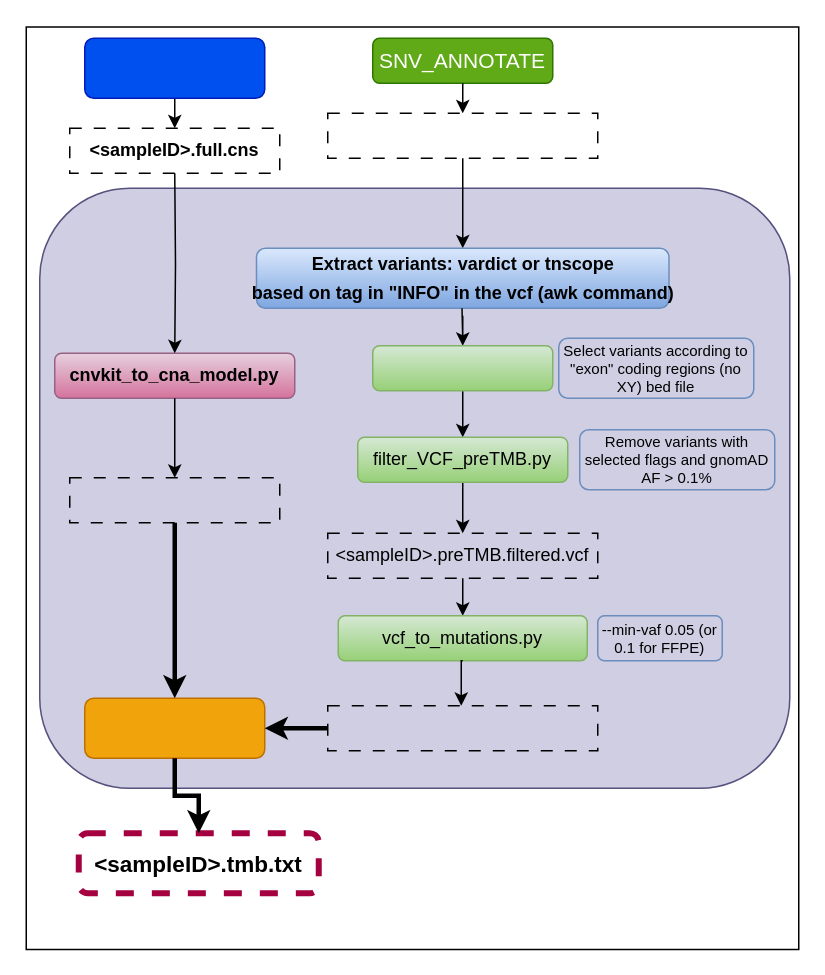
The diagram is 825 pixels wide and 975 high, and some of its shapes have lost their labels. Each missing label, with the box of its shape:
<sampleID> _mut_aggr.full.txt: (326, 704, 598, 751)
<sampleID>.cna.call.txt: (68, 476, 280, 523)
<sampleID>.final.filtered.vcf: (326, 112, 598, 158)
bcftools intersect: (371, 344, 553, 391)
CNV_CALLING (cnvkit): (83, 37, 265, 98)
TMB calculation (fmiSGZ_v2.py): (83, 697, 265, 758)
